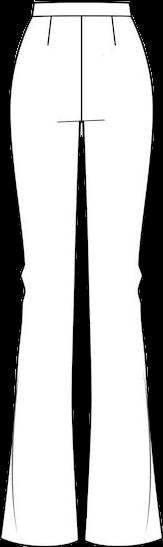Hemline: (0, 533, 79, 546), (84, 535, 162, 546)
Pantleg: (80, 3, 160, 544), (2, 3, 80, 544)
Waistline: (31, 12, 131, 21), (33, 0, 130, 7)
